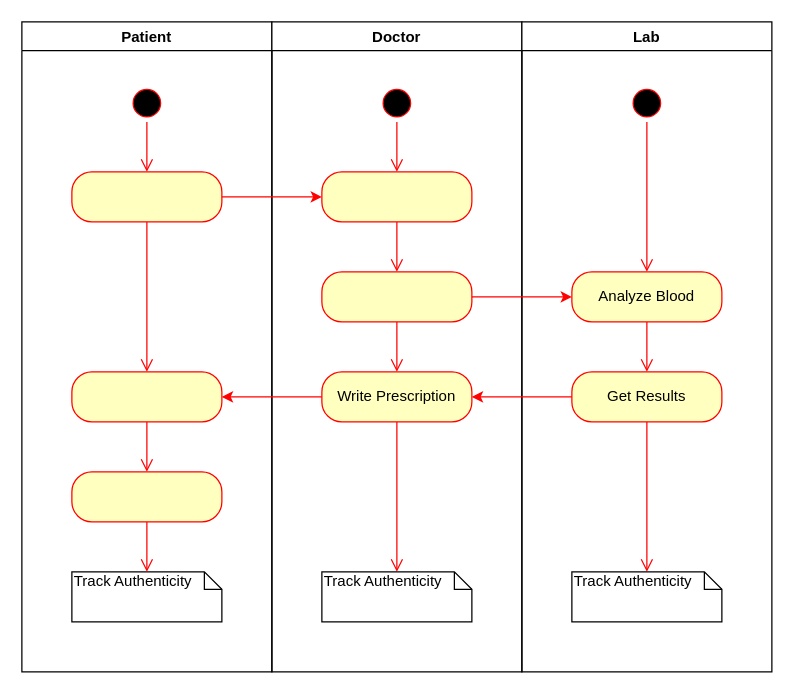
Image size: 794x694. Some labels were removed from this diagram. The centre of each missing label's shape, as x and y in pixels:
Leave Doctor: (146,496)
Pay Bill: (146,396)
Send Blood to Lab: (396,296)
Take Blood: (396,196)
Visit Doctor: (146,196)
